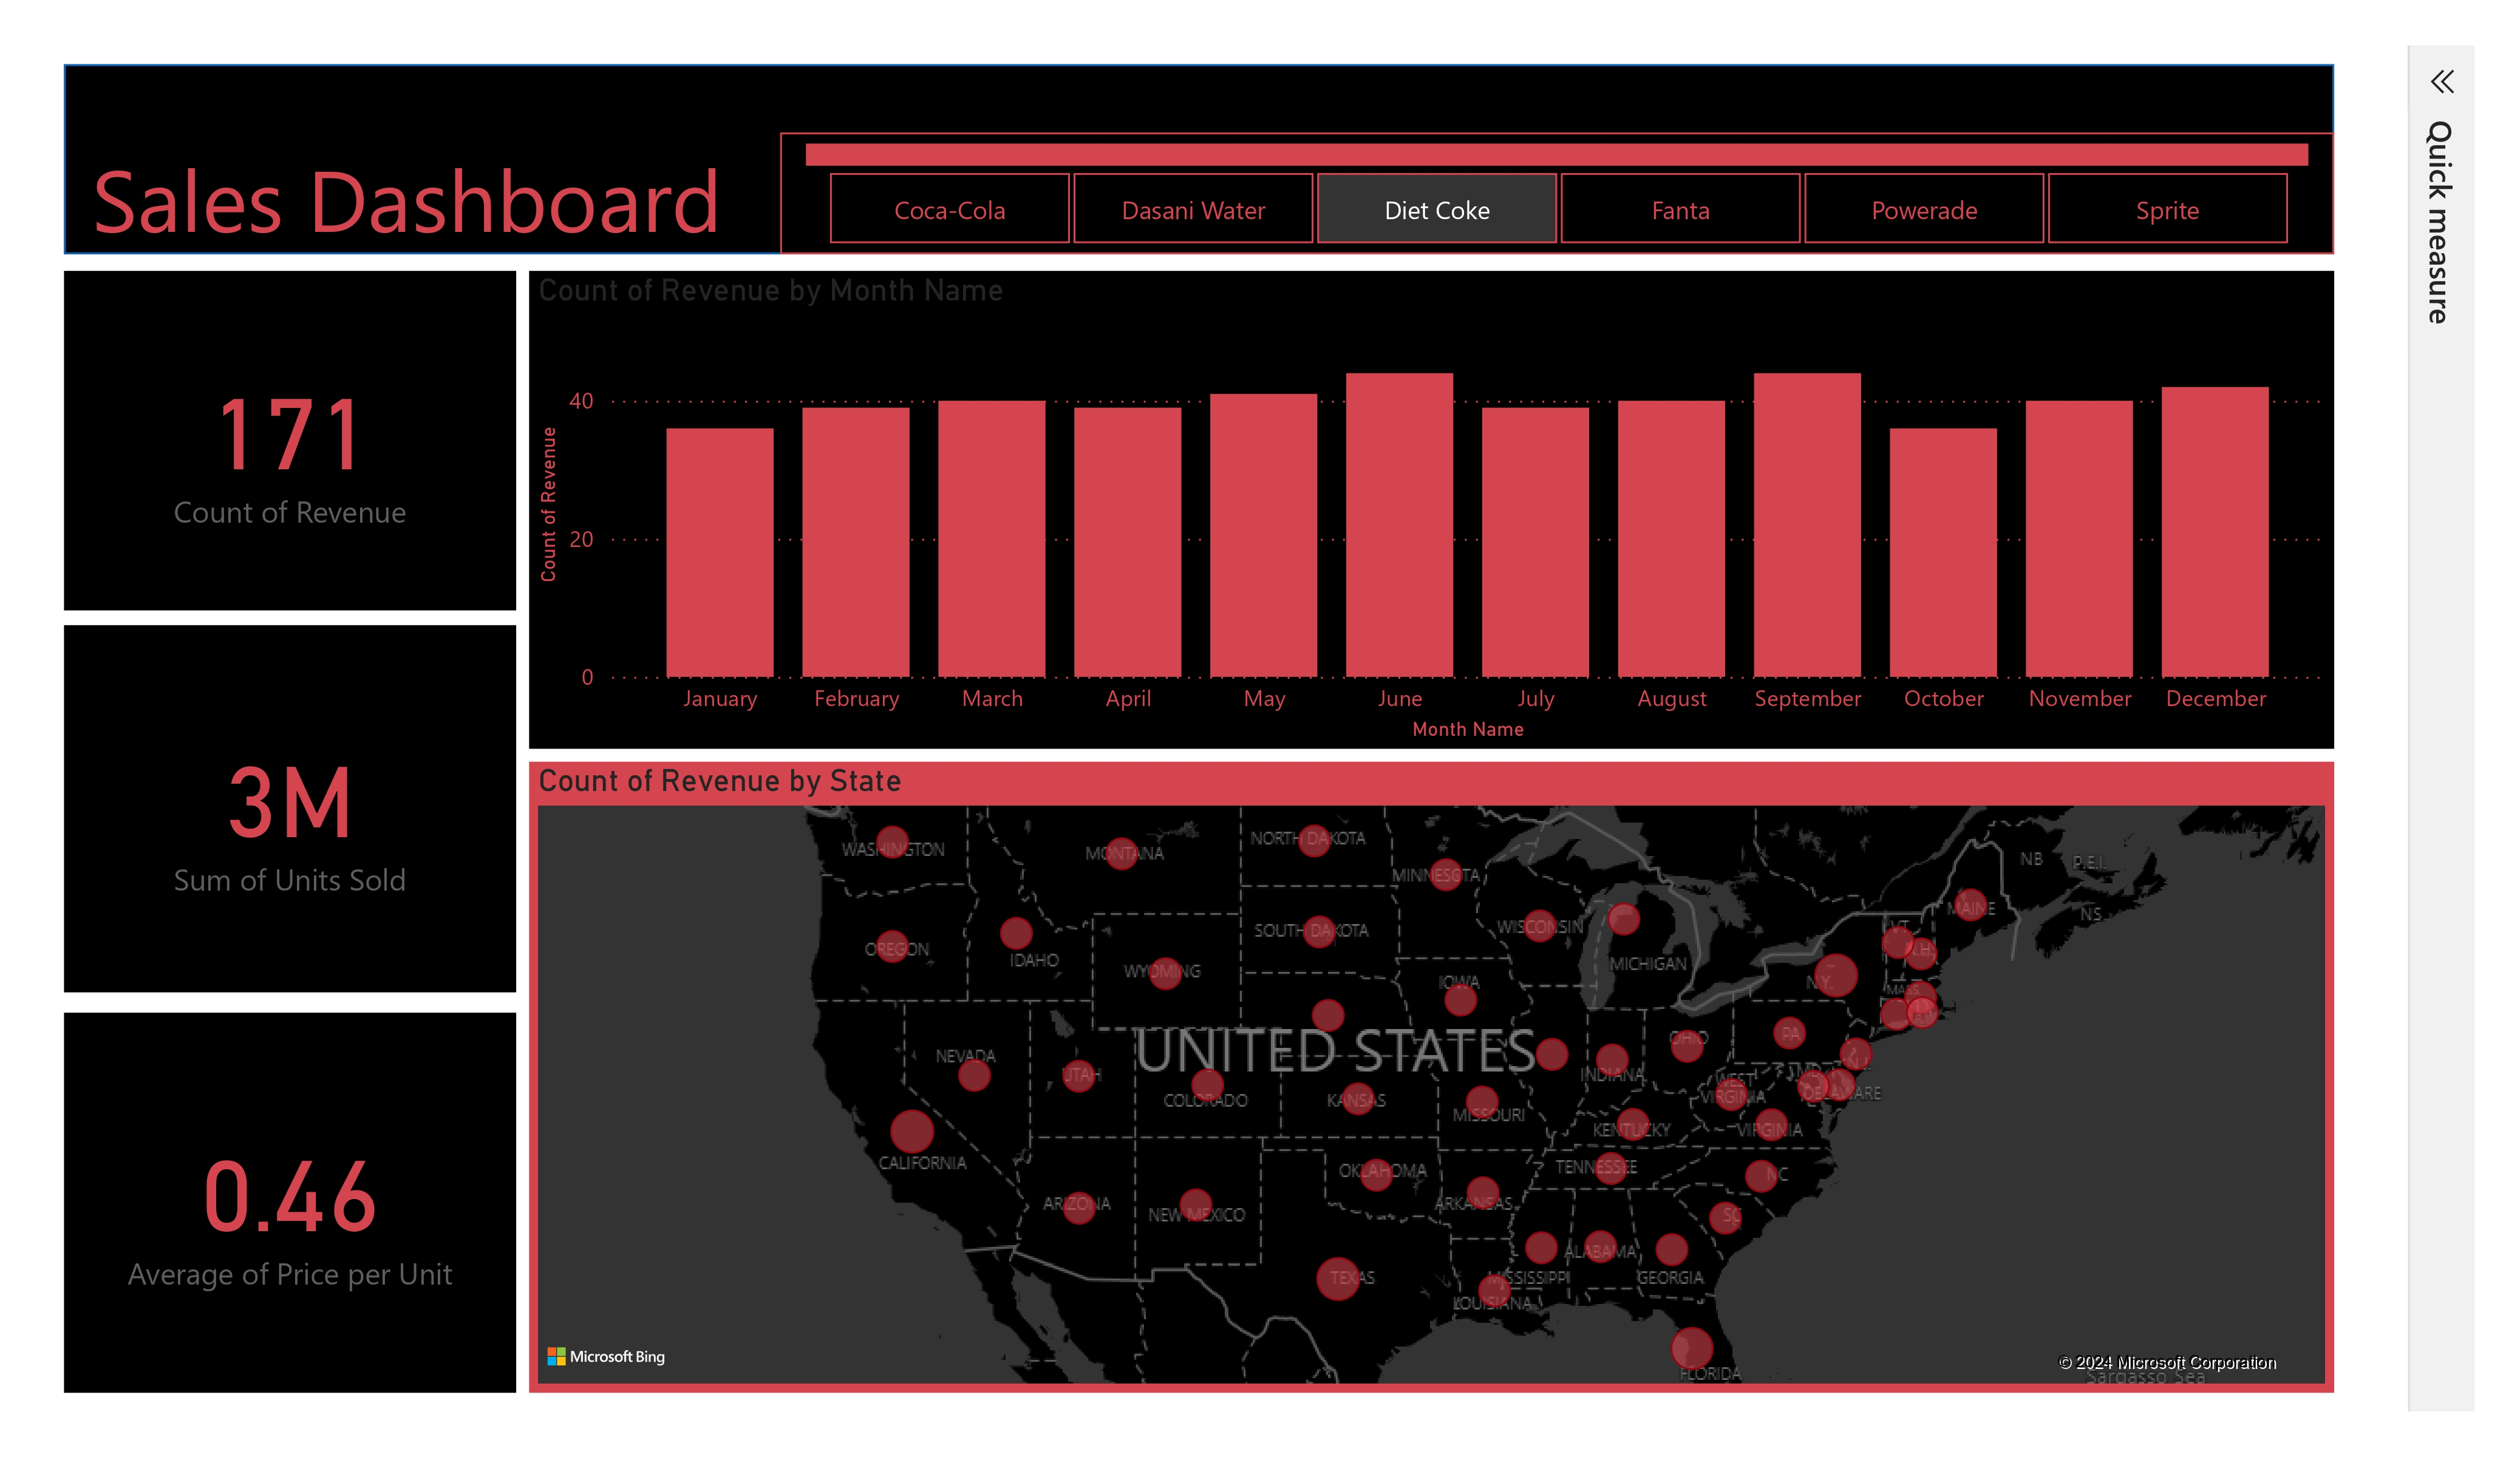

This screenshot's page, from the dashboard's own definition file:
{"tool":"powerbi","page":{"name":"Page 1","canvas":[1280,720],"ordinal":0},"visuals":[{"type":"shape","box":[10,0,1230,102.9],"z":0},{"type":"card","fields":{"Values":["Count(Data.Revenue)"]},"box":[10,111.9,244.8,183.9],"z":1000},{"type":"card","fields":{"Values":["Avg(Data.Price per Unit)"]},"box":[10,513.6,244.8,206.8],"z":2000},{"type":"card","fields":{"Values":["Sum(Data.Units Sold)"]},"box":[10,303.8,244.8,198.8],"z":3000},{"type":"columnChart","fields":{"Category":["Data.Month Name"],"Y":["Count(Data.Revenue)"]},"box":[261.8,111.9,978.2,258.8],"z":4000},{"type":"map","fields":{"Category":["Data.State"],"Size":["CountNonNull(Data.Revenue)"]},"box":[261.8,377.7,978.2,342.7],"z":5000},{"type":"slicer","fields":{"Values":["Data.Beverage Brand"]},"box":[397.7,37,842.3,65.9],"z":6000}]}

Visuals, with their boxes on the page's 1280x720 design canvas (x1, y1, x2, y2). These are canvas units, not pixel positions in the 2520x1457 screenshot, which may show the page scaled, cropped or inside an application window:
shape: pyautogui.locateOnScreen(10, 0, 1240, 103)
card - Count(Data.Revenue): pyautogui.locateOnScreen(10, 112, 255, 296)
card - Avg(Data.Price per Unit): pyautogui.locateOnScreen(10, 514, 255, 720)
card - Sum(Data.Units Sold): pyautogui.locateOnScreen(10, 304, 255, 503)
columnChart - Data.Month Name x Count(Data.Revenue): pyautogui.locateOnScreen(262, 112, 1240, 371)
map - Data.State x CountNonNull(Data.Revenue): pyautogui.locateOnScreen(262, 378, 1240, 720)
slicer - Data.Beverage Brand: pyautogui.locateOnScreen(398, 37, 1240, 103)
